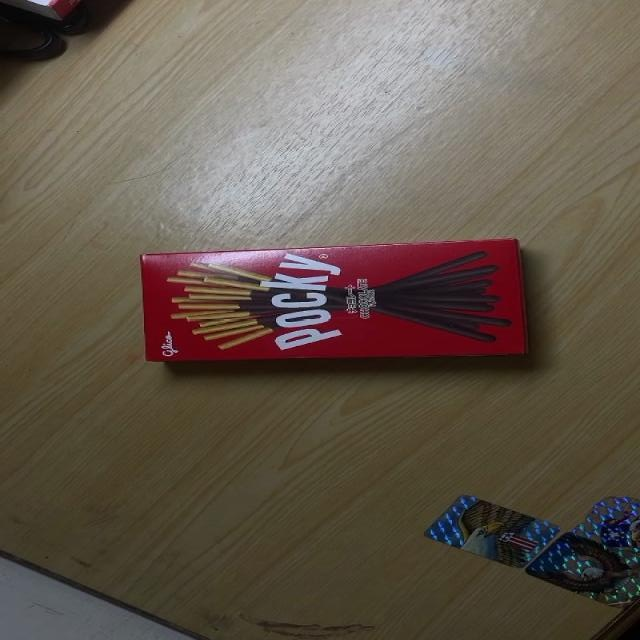Pocky: (140, 238, 529, 362)
